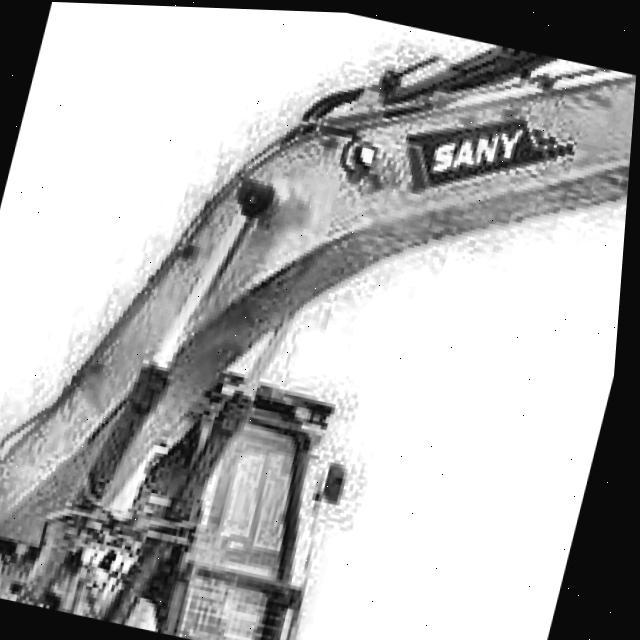excavator: (0, 259, 523, 640)
